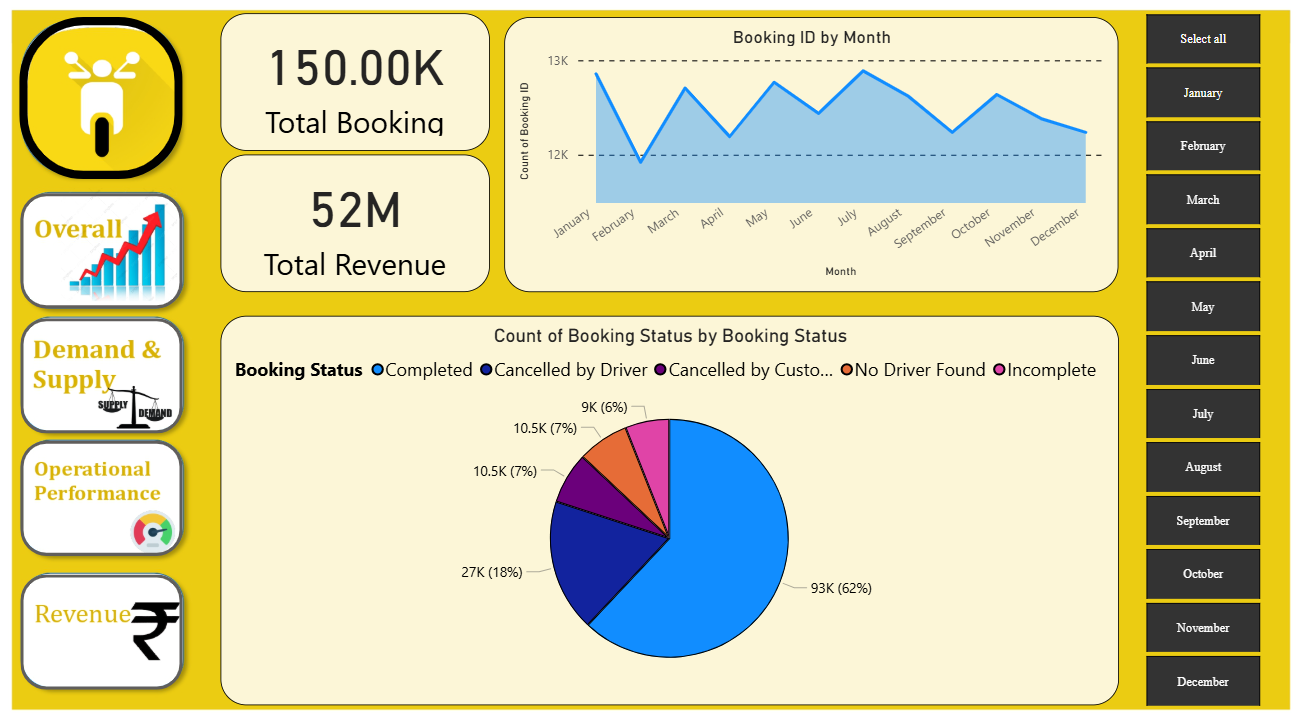

Layout of this report page (visuals, bound fields, positions):
{"tool":"powerbi","page":{"name":"Overall","canvas":[1280,720],"ordinal":0},"visuals":[{"type":"actionButton","box":[31.6,199,156.4,111.1],"z":0},{"type":"actionButton","box":[31.6,319.7,156.4,111.1],"z":1000},{"type":"actionButton","box":[31.6,437.7,156.4,111.1],"z":2000},{"type":"actionButton","box":[31.6,566.7,156.4,111.1],"z":3000},{"type":"shape","box":[30.2,28.8,157.8,156.4],"z":4000},{"type":"card","fields":{"Values":["CountNonNull(ncr_ride_bookings.Booking ID)"]},"box":[224.3,25.7,260,132.9],"z":5000},{"type":"lineChart","title":"Booking ID by Month","fields":{"Category":["ncr_ride_bookings.Date.Variation.Date Hierarchy.Month"],"Y":["Count(ncr_ride_bookings.Booking ID)"]},"box":[498.6,28.6,592.9,265.7],"z":6000},{"type":"card","fields":{"Values":["Sum(ncr_ride_bookings.Booking Value)"]},"box":[224.3,161.4,260,132.9],"z":7000},{"type":"pieChart","fields":{"Y":["CountNonNull(ncr_ride_bookings.Booking Status)"],"Category":["ncr_ride_bookings.Booking Status"]},"box":[224.3,317.1,867.1,375.7],"z":8000},{"type":"slicer","fields":{"Values":["ncr_ride_bookings.Date.Variation.Date Hierarchy.Month"]},"box":[1091.2,18.8,160,681.2],"z":9000}]}

Visuals, with their boxes in screenshot pixels (x1, y1, x2, y2), scaled from the page's 1280x720 canvas onto the 1302x727 screenshot:
actionButton: (left=32, top=201, right=191, bottom=313)
actionButton: (left=32, top=323, right=191, bottom=435)
actionButton: (left=32, top=442, right=191, bottom=554)
actionButton: (left=32, top=572, right=191, bottom=684)
shape: (left=31, top=29, right=191, bottom=187)
card - CountNonNull(ncr_ride_bookings.Booking ID): (left=228, top=26, right=493, bottom=160)
"Booking ID by Month" lineChart: (left=507, top=29, right=1110, bottom=297)
card - Sum(ncr_ride_bookings.Booking Value): (left=228, top=163, right=493, bottom=297)
pieChart - CountNonNull(ncr_ride_bookings.Booking Status) x ncr_ride_bookings.Booking Status: (left=228, top=320, right=1110, bottom=700)
slicer - ncr_ride_bookings.Date.Variation.Date Hierarchy.Month: (left=1110, top=19, right=1273, bottom=707)
